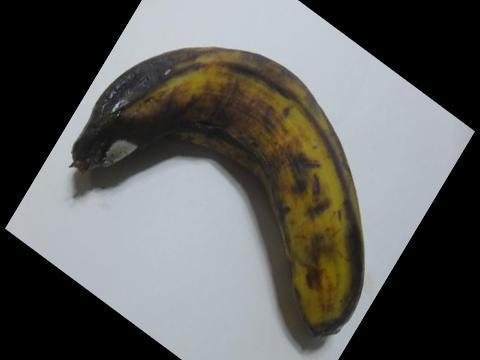overripe: (49, 33, 401, 338)
